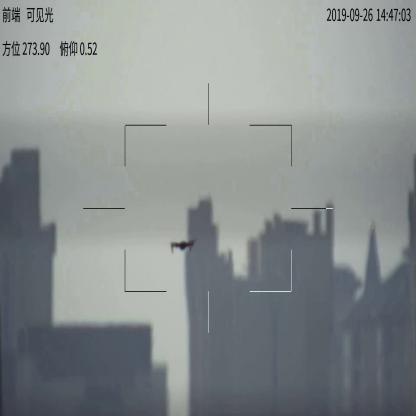uav: (166, 238, 198, 254)
